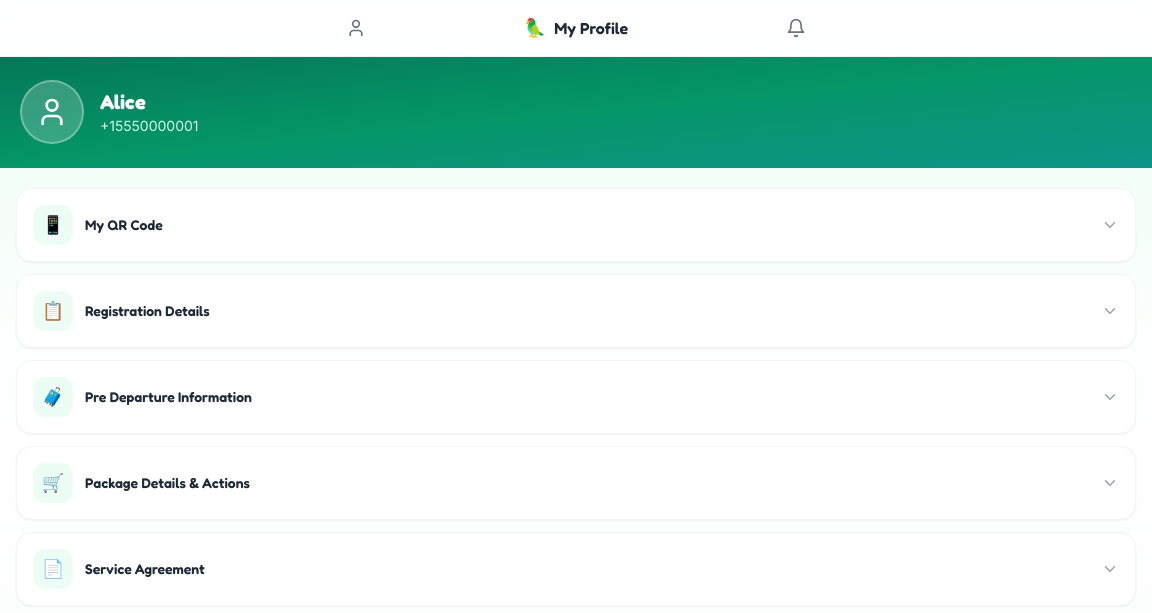
Test case: ProfileScreen › shows the saved date of birth and health info when returning to the profile
The width and height of the screenshot is (1152, 613).
Check: the heading "My Profile" is shown, box [554,16,628,40]
What coordinates should you click on to do the following:
click the button "📋 Registration Details"
I would click on:
 (53, 311)
Its box is [17,275,1135,347].
(page scrolled)
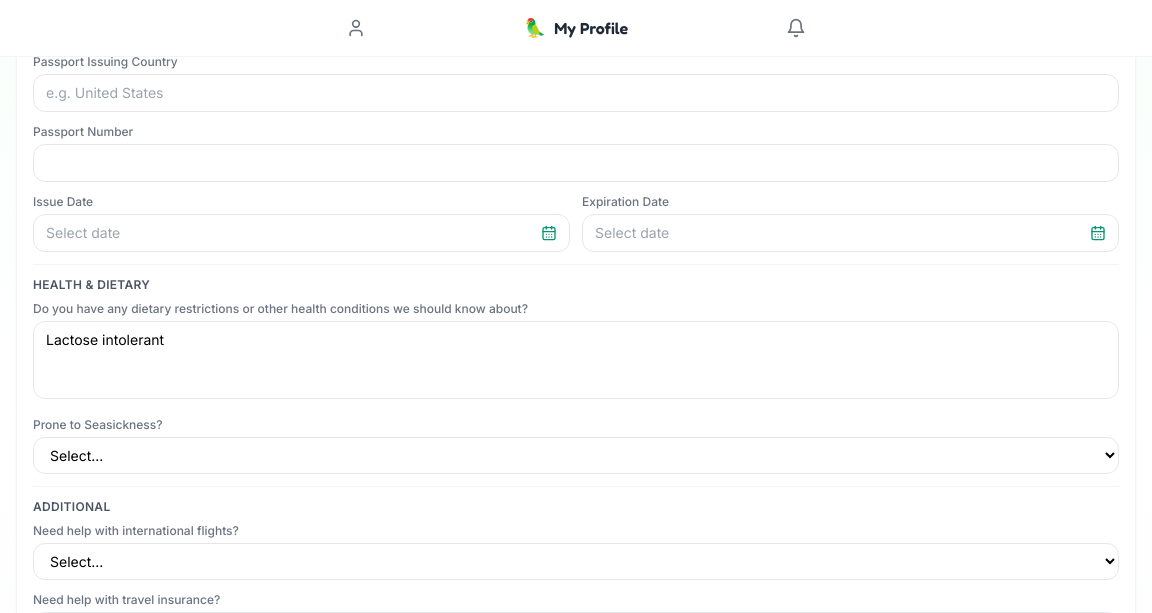
Check: the text box named "Do you have any dietary restrictions or other health conditions we should know about?" holds "Lactose intolerant", box [33,321,1119,399]
